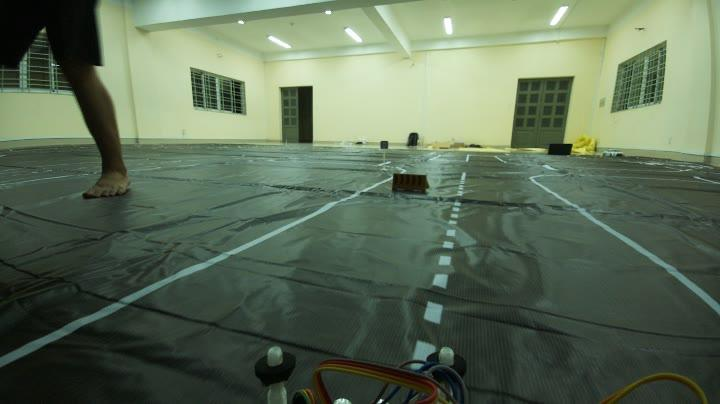roadblock: (388, 170, 433, 198)
